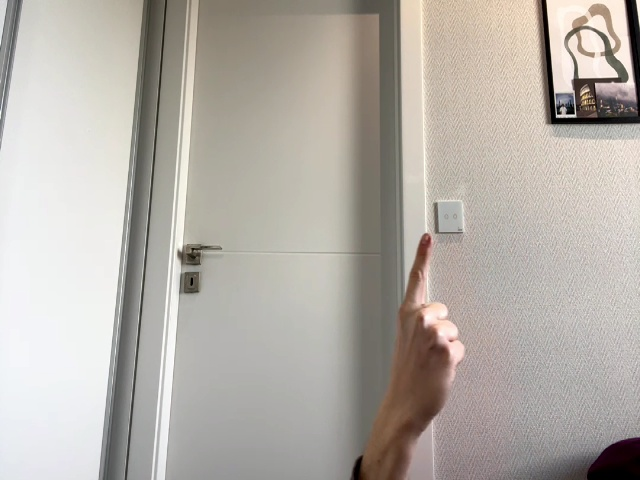D: (388, 234, 465, 445)
